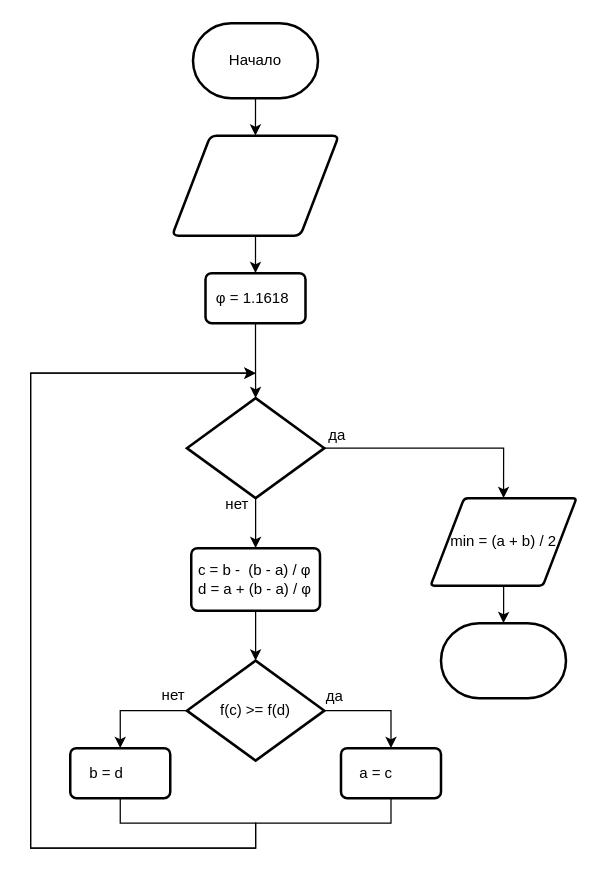
The diagram is 600 pixels wide and 880 high, and some of its shapes have lost their labels. Each missing label, with the centre of its shape:
"|b - a| < e" belongs at (255,447).
"Ввод границ унимодальной функции [a, b], и точности e" belongs at (254,185).
"Конец" belongs at (503,660).
